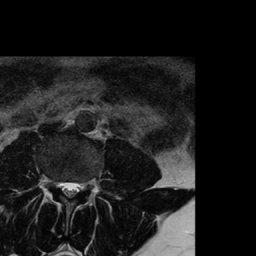CCS_normal: (66, 172, 73, 205)
LFS_normal: (79, 173, 87, 197)
LLS_normal: (73, 174, 80, 201)
RFS_stenosis: (51, 171, 59, 195)
RLS_normal: (59, 173, 66, 199)
